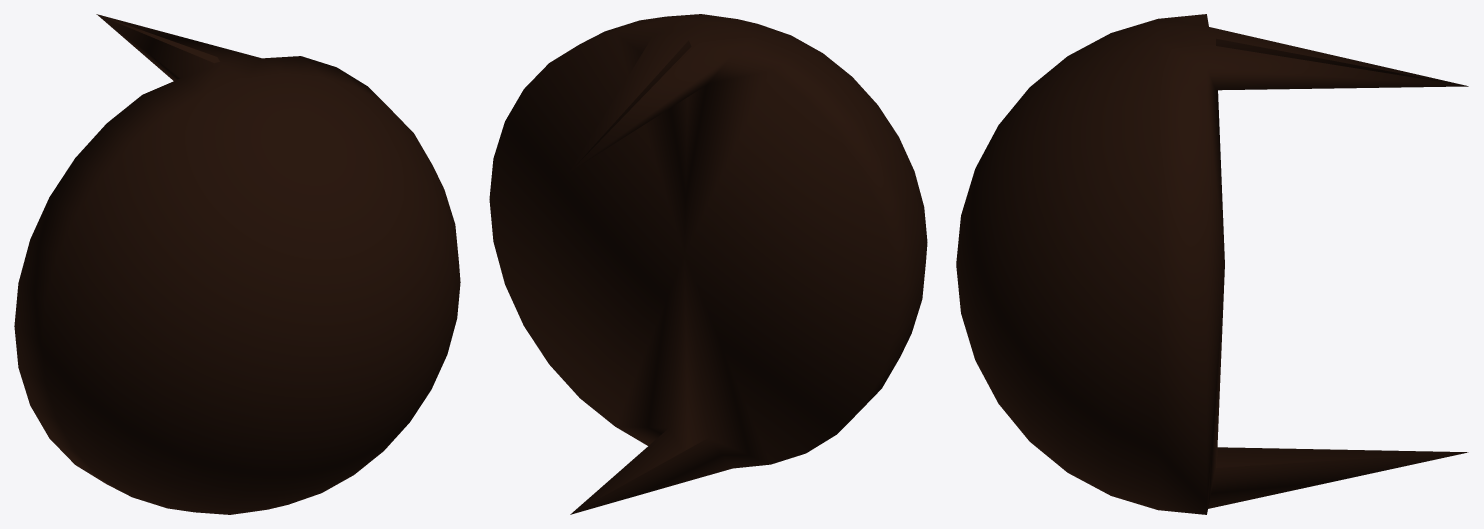
File: pilotHat.fbx
The picture shows the model from 3 angles, left to right: view 1: azimuth 30°, elevation 25°; view 2: azimuth 150°, elevation 25°; view 3: azimuth 270°, elevation 25°; orthographic projection. The views are drawn at different scales.
Visible parts, largest first — view 1: Sphere; view 2: Sphere; view 3: Sphere.
Boxes of the visible parts, left/top/right/bottom form: Sphere: left=14, top=14, right=460, bottom=514; Sphere: left=489, top=14, right=927, bottom=514; Sphere: left=956, top=14, right=1468, bottom=514.
Size of the model in its own units: 2.57 by 2.57 by 2.63.
